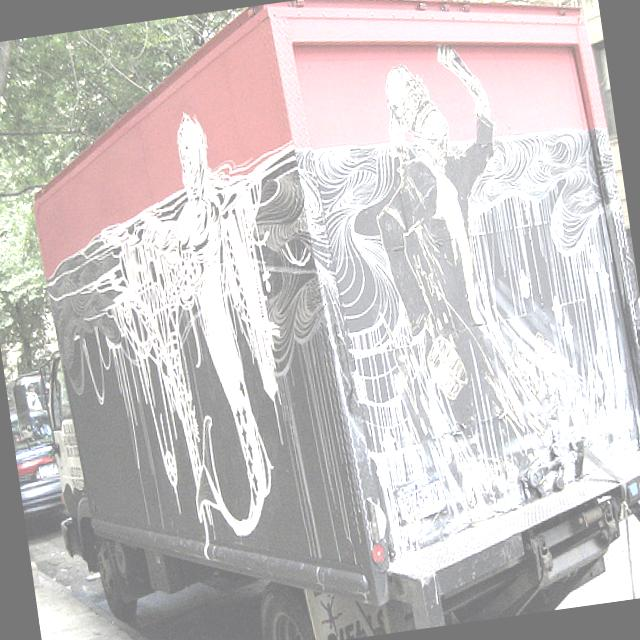Vehicle: (0, 0, 640, 640), (11, 408, 66, 535)
